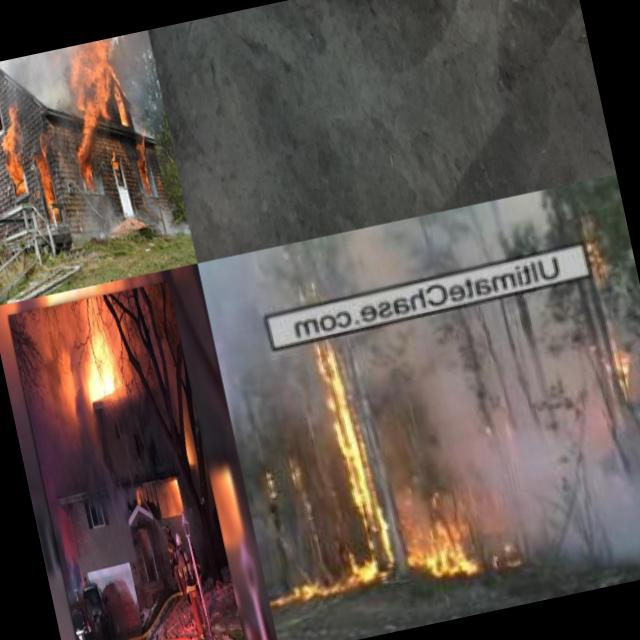fire: (307, 336, 404, 580), (412, 484, 492, 575), (267, 546, 358, 606), (66, 37, 128, 116), (68, 108, 115, 190), (32, 134, 68, 223), (80, 350, 125, 410), (0, 110, 32, 194), (131, 135, 159, 196), (180, 425, 194, 467), (170, 468, 184, 508), (115, 106, 131, 130)
smoke: (438, 332, 640, 575), (24, 384, 110, 510), (112, 30, 168, 138), (8, 48, 78, 120), (142, 189, 190, 240), (106, 474, 143, 530)
